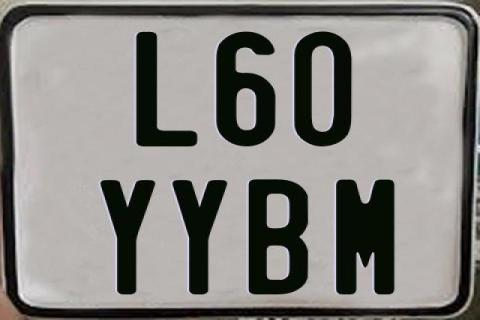0: (291, 31, 352, 151), (214, 30, 276, 146)
B: (247, 179, 306, 299)
L: (135, 31, 199, 147)
M: (333, 178, 396, 294)
Y: (98, 177, 159, 293), (171, 178, 232, 294)
